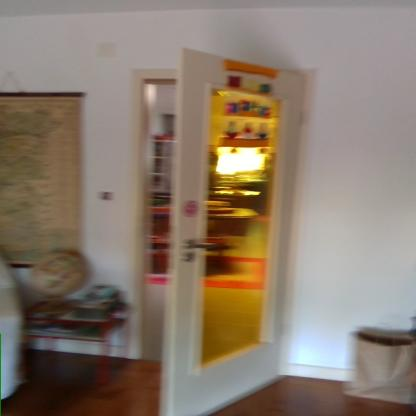semi: (107, 30, 360, 396)
